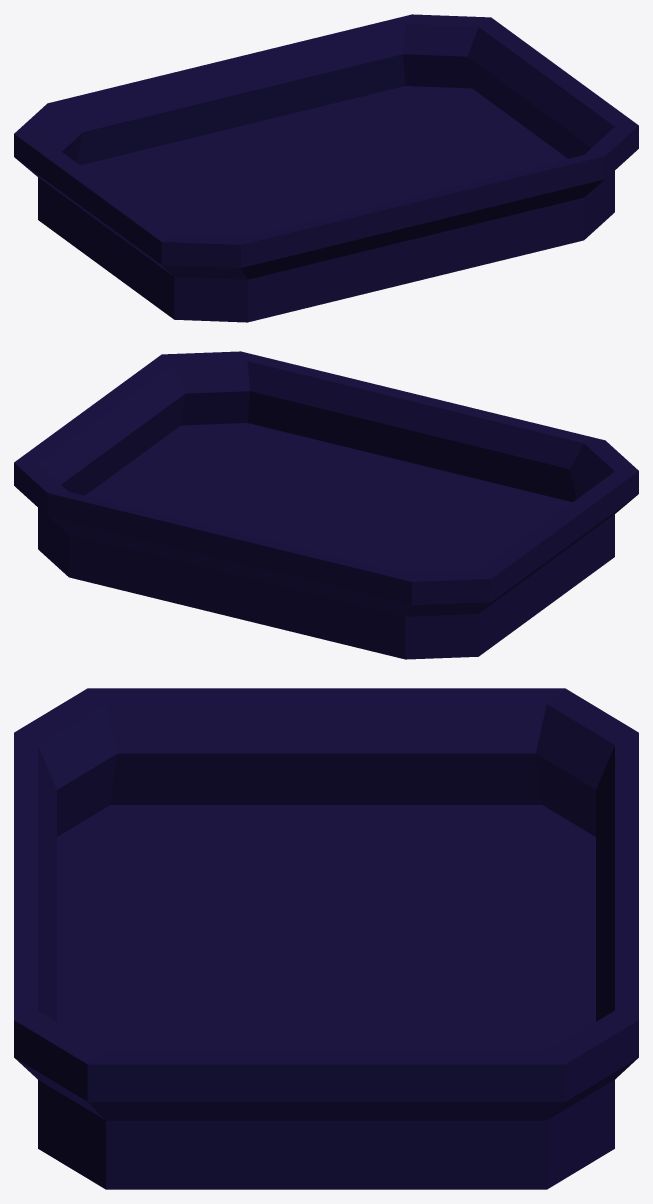
The model's file is wadah.fbx.
3 views of the same model, one above another, from view 1: azimuth 30°, elevation 25°; view 2: azimuth 150°, elevation 25°; view 3: azimuth 270°, elevation 25° (orthographic). The views are drawn at different scales.
Parts seen in each view (by area): view 1: Cube; view 2: Cube; view 3: Cube.
Boxes of the visible parts, box(x1,y1,x2,y2) form: Cube: box(14, 14, 638, 322); Cube: box(14, 351, 638, 659); Cube: box(14, 688, 638, 1189).
Size of the model in its own units: 51.86 by 8.97 by 36.4.
